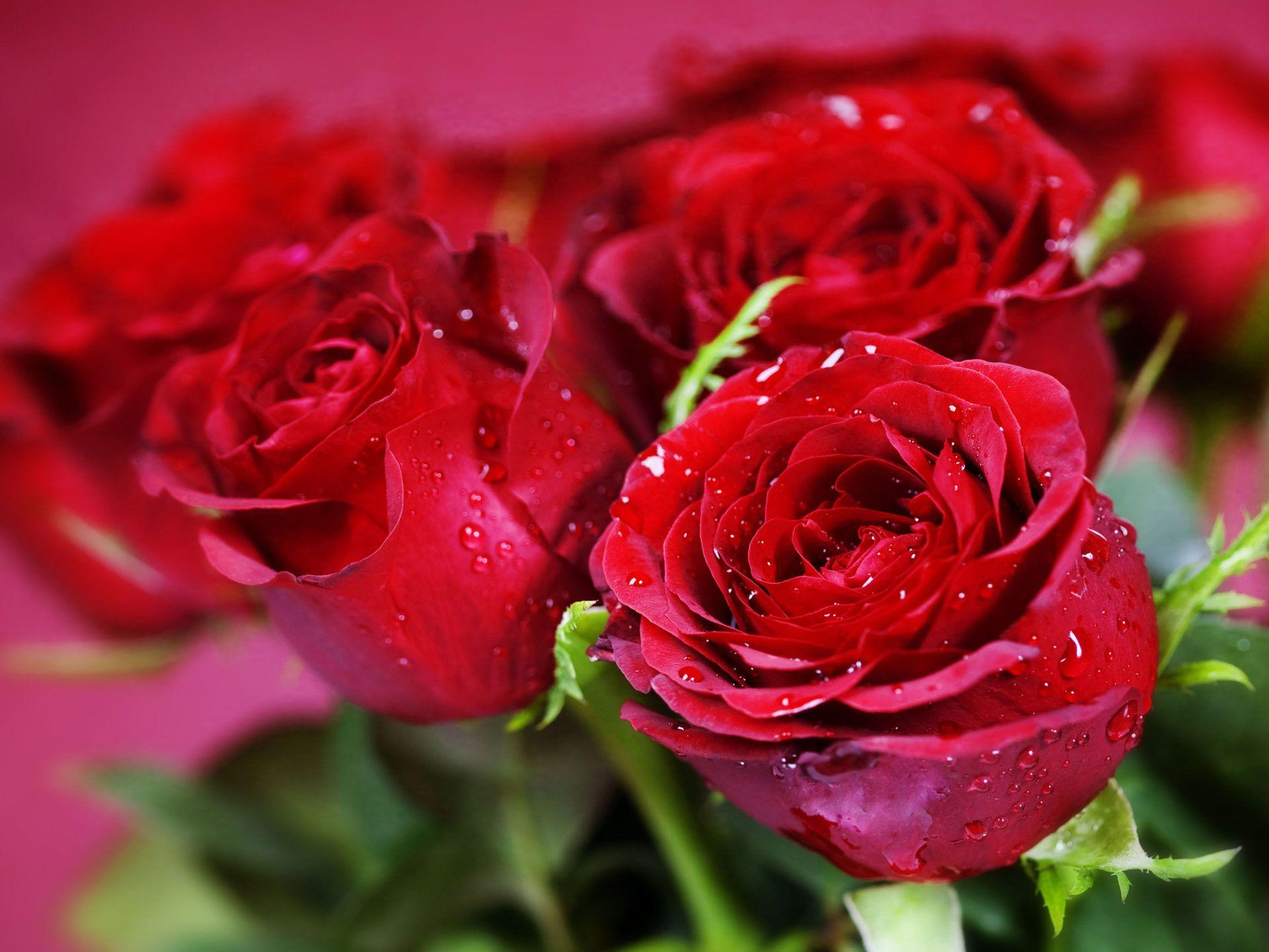rose: (585, 329, 1161, 885), (126, 178, 624, 750)
